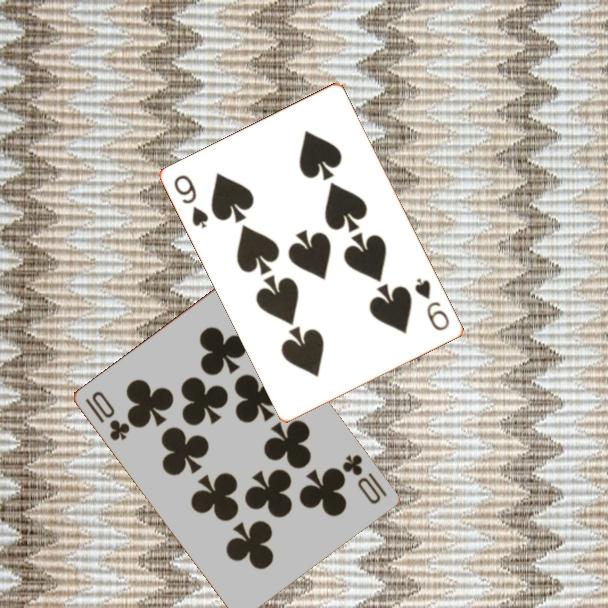c10: (338, 451, 390, 507), (81, 387, 132, 444)
s09: (170, 171, 212, 231), (412, 274, 453, 334)
